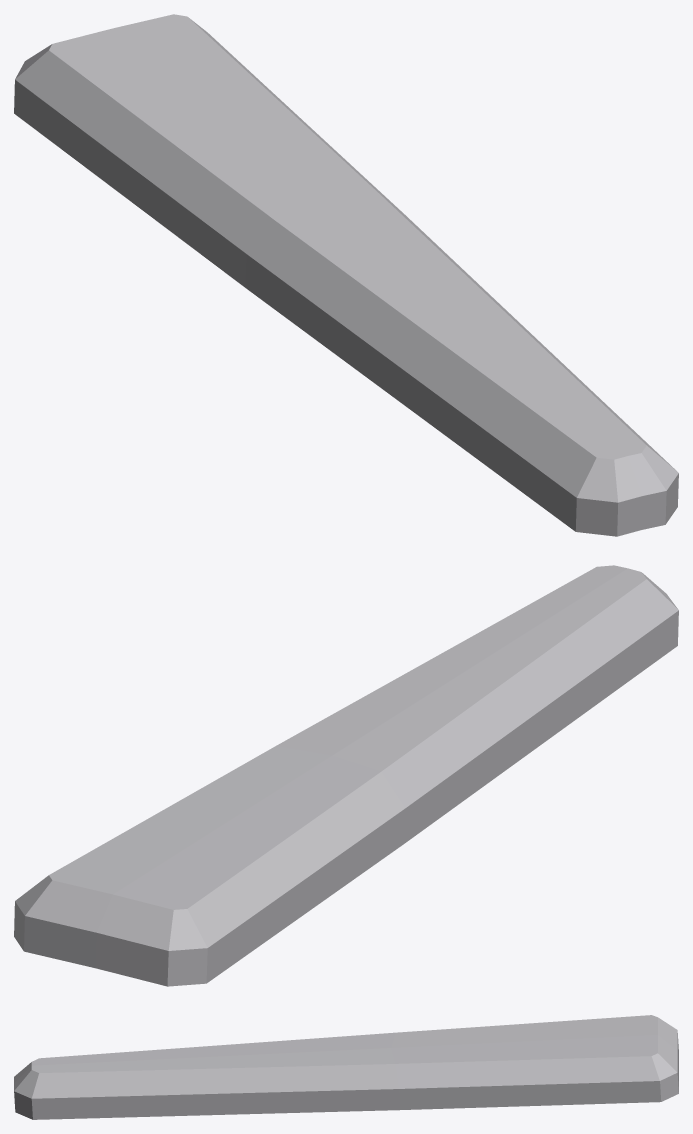
Rendered from Fighter_04_Detail_4.fbx.
The picture shows the model from 3 angles, top to bottom: view 1: azimuth 30°, elevation 25°; view 2: azimuth 150°, elevation 25°; view 3: azimuth 270°, elevation 25°; orthographic projection. The views are drawn at different scales.
Parts seen in each view (by area): view 1: Fighter_04_Detail_4; view 2: Fighter_04_Detail_4; view 3: Fighter_04_Detail_4.
Boxes of the visible parts, x1,y1,x2,y2 form: Fighter_04_Detail_4: (14, 14, 678, 536); Fighter_04_Detail_4: (14, 565, 678, 986); Fighter_04_Detail_4: (14, 1015, 678, 1119).
Bounding box in the file's own units: 58.91 × 33.79 × 289.
Materials: 1 (1 with a texture image).
